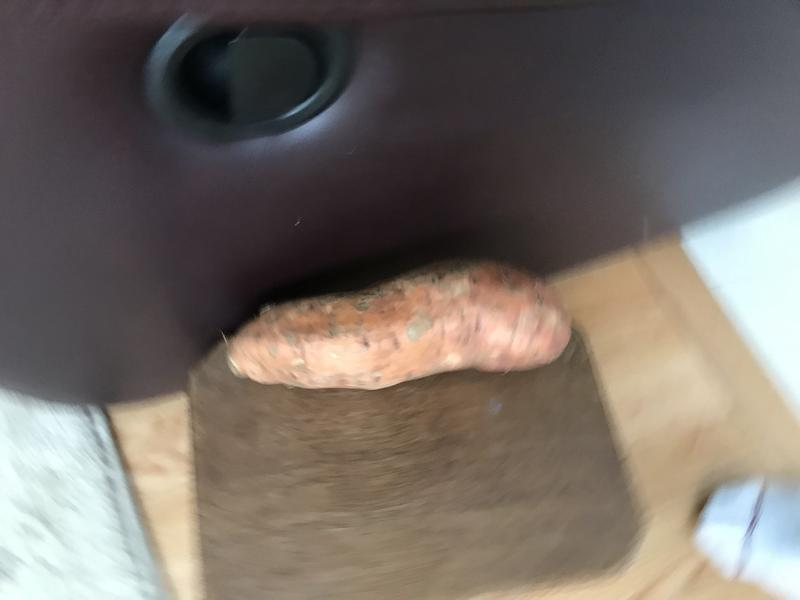sweet_potato: (214, 247, 589, 402)
